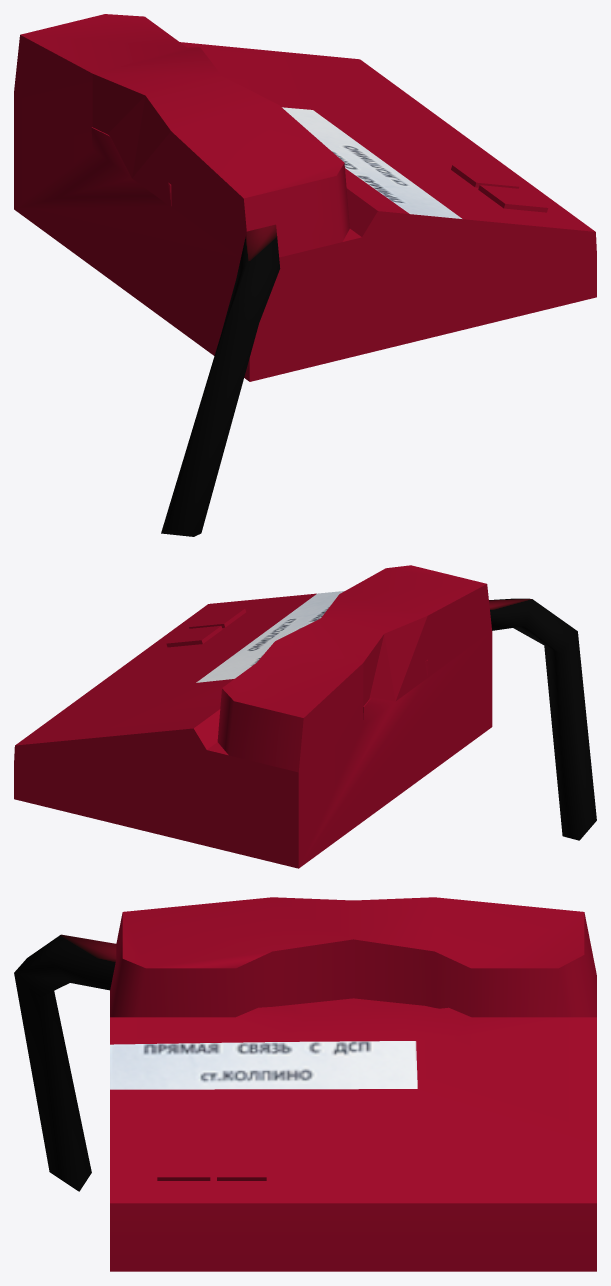
The picture shows the model from 3 angles, top to bottom: view 1: azimuth 30°, elevation 25°; view 2: azimuth 150°, elevation 25°; view 3: azimuth 270°, elevation 25°; orthographic projection. The views are drawn at different scales.
Parts seen in each view (by area): view 1: Box47; view 2: Box47; view 3: Box47.
Boxes of the visible parts, x1,y1,x2,y2 form: Box47: (14,14,596,536); Box47: (14,565,596,868); Box47: (14,897,596,1271).
Size of the model in its own units: 22.12 by 15.14 by 23.95.
Materials: 1 (1 with a texture image).
